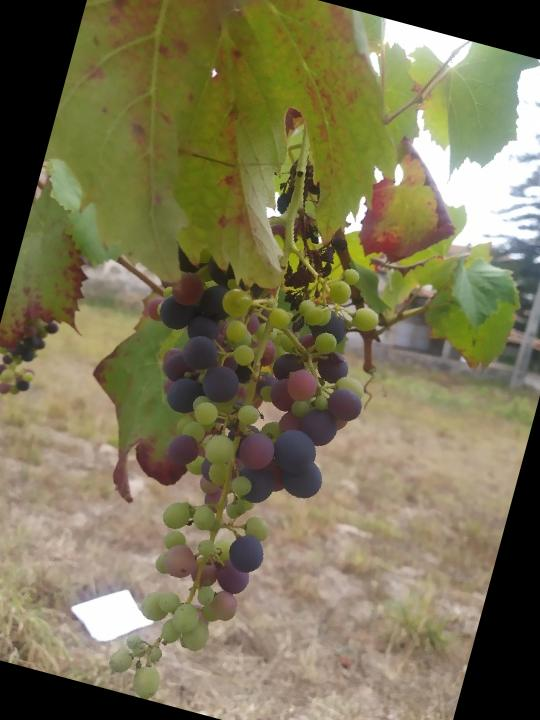grape: (56, 135, 420, 720)
